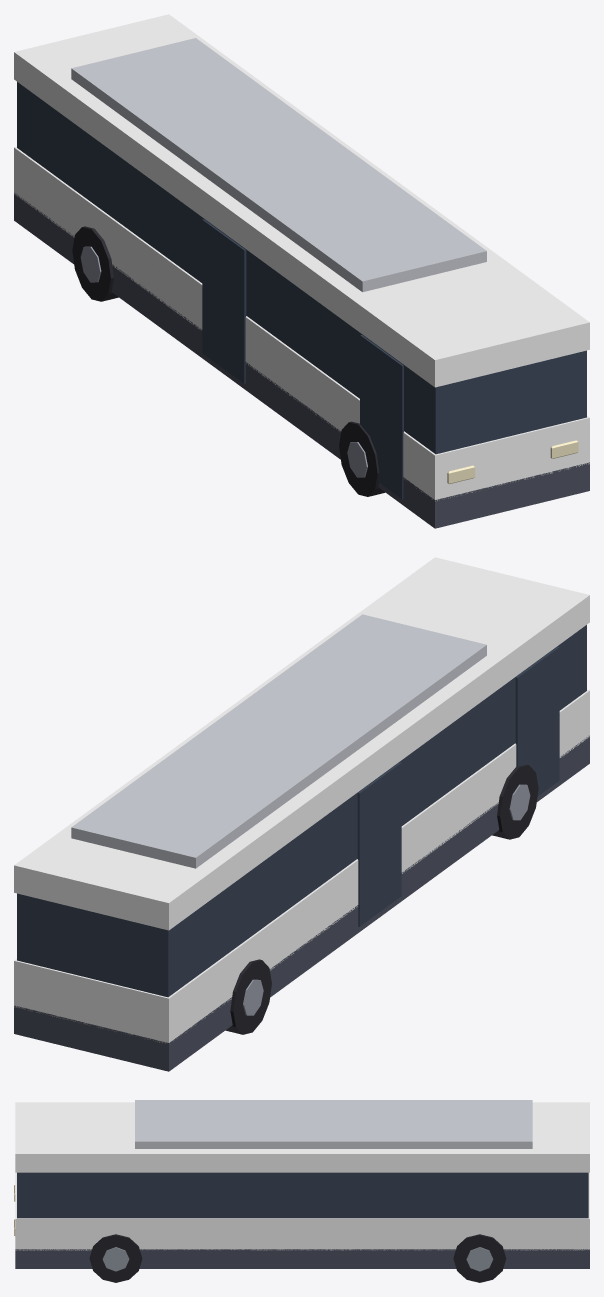
Rendered from vehicle.bus.glb.
The picture shows the model from 3 angles, top to bottom: view 1: azimuth 30°, elevation 25°; view 2: azimuth 150°, elevation 25°; view 3: azimuth 270°, elevation 25°; orthographic projection. The views are drawn at different scales.
Parts seen in each view (by area): view 1: near, far; view 2: near, far; view 3: near, far.
Part boxes in pixels (box(x1,y1,x2,y2)): near: box(14, 18, 589, 522); far: box(14, 14, 589, 528); near: box(14, 561, 589, 1065); far: box(14, 557, 589, 1071); near: box(14, 1101, 589, 1282); far: box(15, 1100, 589, 1268).
Bounding box in the file's own units: 2.69 × 3.12 × 12.03.
